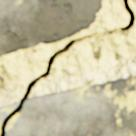brick: (0, 0, 102, 55)
broken_brick: (6, 74, 135, 135), (0, 100, 19, 130)
crack: (0, 0, 134, 135)
